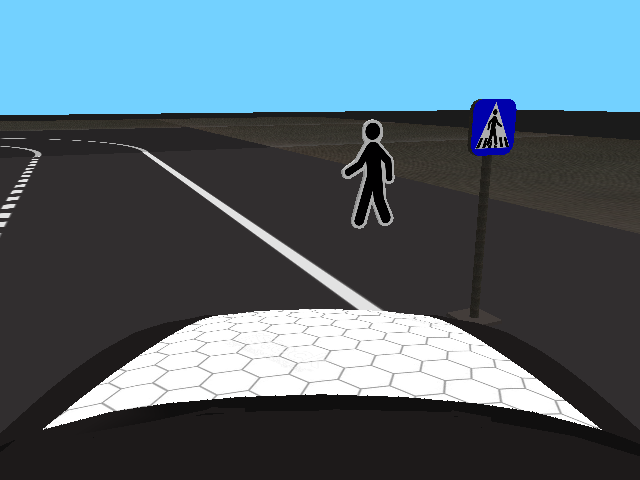pedestrian: (340, 116, 396, 229)
